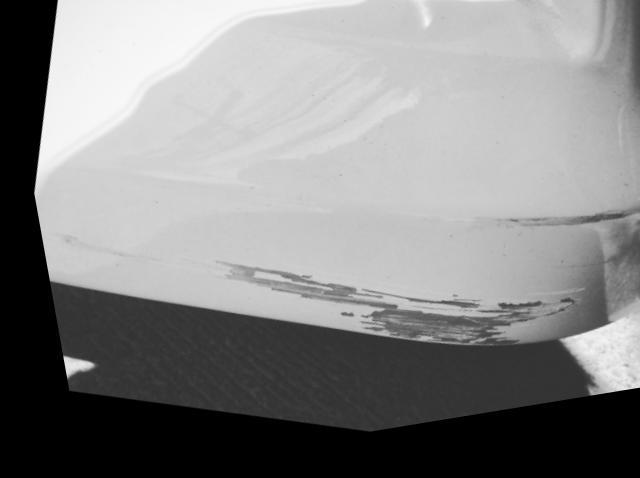scratch: (46, 233, 580, 365), (467, 228, 634, 247)
